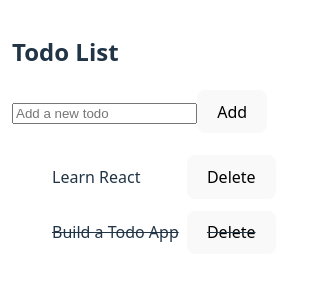
Test: adds a new todo
Type "Test new todo" into the field with test id "todo-input". click: (104, 113)
box: [12,103,197,124]
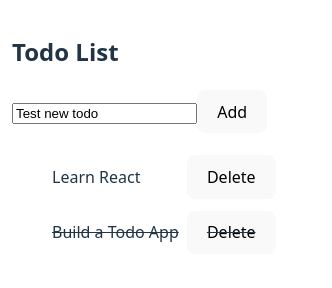
Click the button with test id "add-btn". click: (232, 112)
box: [197,90,267,133]
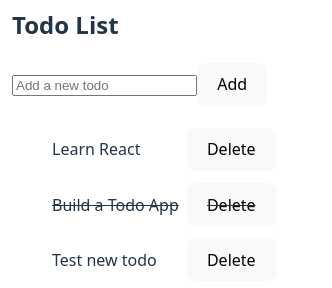
Now the text "Test new todo" is shown, box [52,248,157,272]
